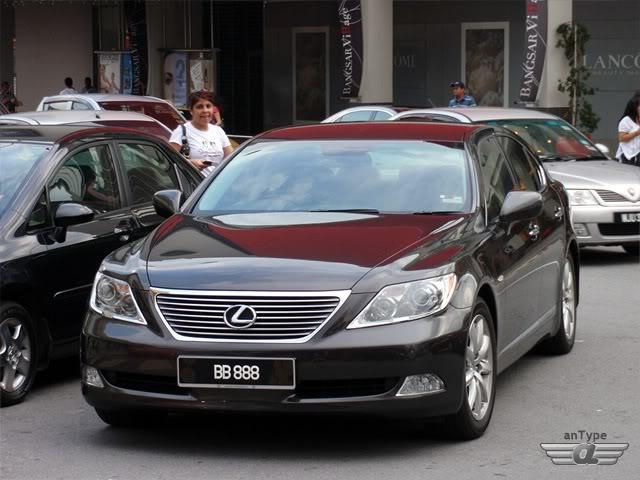License_Plate: (178, 356, 299, 393)
car: (74, 110, 582, 437)
